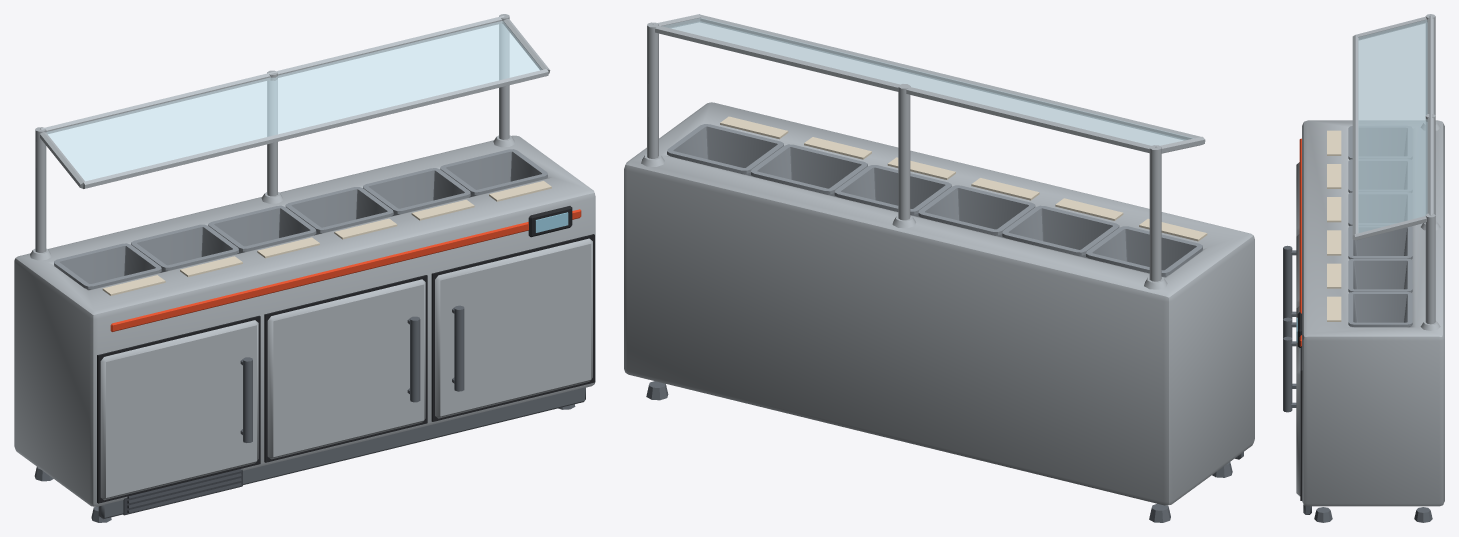
Rendered from Kitchen_BinRail.fbx.
3 renders of one model, left to right at view 1: azimuth 30°, elevation 25°; view 2: azimuth 150°, elevation 25°; view 3: azimuth 270°, elevation 25°, orthographic. The views are drawn at different scales.
Parts seen in each view (by area): view 1: Doors, Body, Glass, Pans, GuardFrame, Gaskets, Kick, Stripe, Labels, Handles, Vent; view 2: Body, Pans, GuardFrame, Glass, Labels, Kick; view 3: Body, Glass, Pans, GuardFrame, Labels, Handles, Doors, Kick, Stripe, Gaskets.
Boxes of the visible parts, box(x1,y1,x2,y2) form: Doors: box(100, 238, 592, 500); Body: box(14, 135, 595, 506); Glass: box(46, 21, 541, 181); Pans: box(54, 149, 547, 289); GuardFrame: box(30, 14, 550, 260); Gaskets: box(97, 234, 594, 503); Kick: box(34, 387, 585, 522); Stripe: box(110, 209, 581, 331); Labels: box(102, 181, 551, 295); Handles: box(240, 305, 464, 442); Vent: box(123, 469, 242, 515); Body: box(624, 102, 1254, 505); Pans: box(667, 124, 1202, 276); GuardFrame: box(641, 14, 1205, 289); Glass: box(662, 18, 1193, 145); Labels: box(720, 116, 1207, 241); Kick: box(646, 381, 1243, 522); Body: box(1302, 120, 1444, 506); Glass: box(1358, 19, 1427, 233); Pans: box(1348, 126, 1412, 327); GuardFrame: box(1352, 14, 1440, 330); Labels: box(1327, 130, 1341, 321); Handles: box(1283, 245, 1296, 412); Doors: box(1296, 162, 1300, 496); Kick: box(1303, 504, 1432, 522); Stripe: box(1299, 138, 1301, 346); Gaskets: box(1300, 347, 1302, 500).
Bounding box in the file's own units: 720 × 470 × 227.
